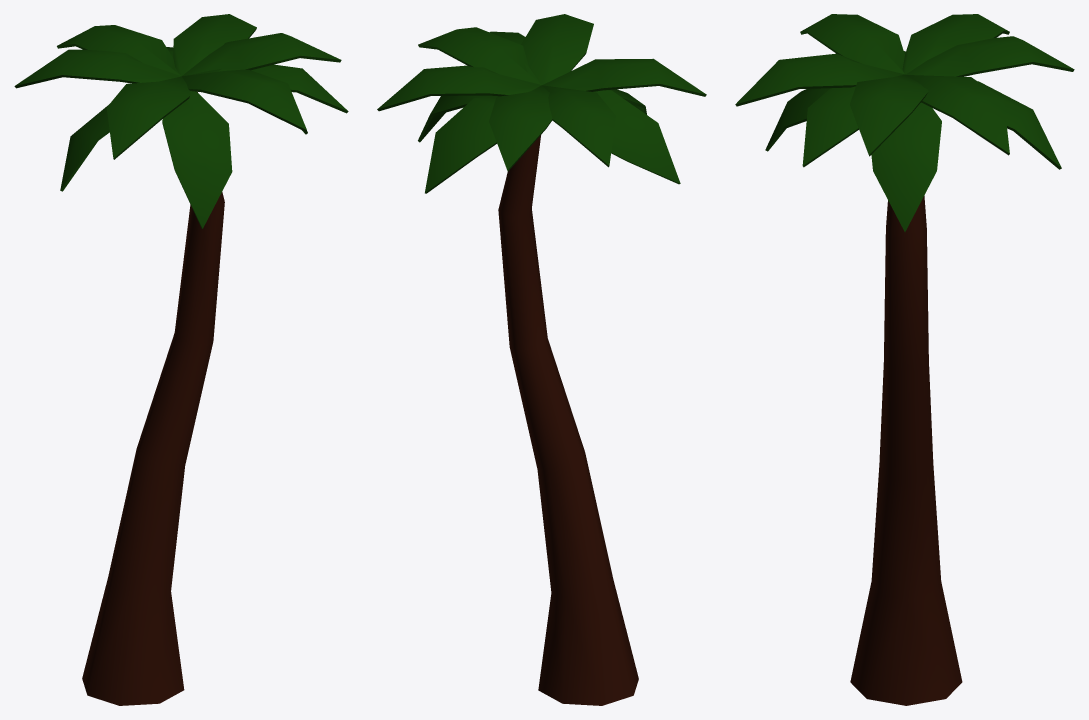
The model's file is Palmier03.fbx.
3 renders of one model, left to right at view 1: azimuth 30°, elevation 25°; view 2: azimuth 150°, elevation 25°; view 3: azimuth 270°, elevation 25°, orthographic. The views are drawn at different scales.
Parts seen in each view (by area): view 1: Cylinder003; view 2: Cylinder003; view 3: Cylinder003.
Part boxes in pixels (x1,y1,x2,y2): Cylinder003: (14,14,348,705); Cylinder003: (377,14,706,705); Cylinder003: (735,14,1074,705).
Size of the model in its own units: 171 by 370 by 173.
